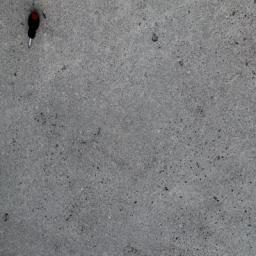FOD: (20, 1, 44, 59)
